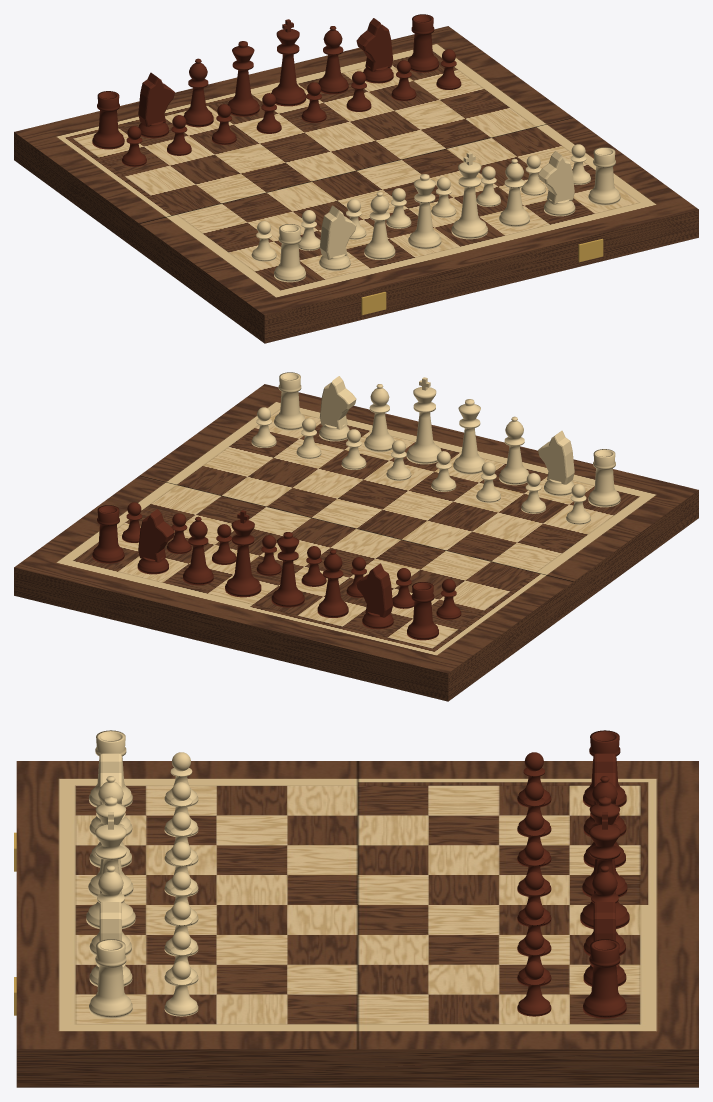
The model's file is philidor-3d-noyer-pliable-29.glb.
The picture shows the model from 3 angles, top to bottom: view 1: azimuth 30°, elevation 25°; view 2: azimuth 150°, elevation 25°; view 3: azimuth 270°, elevation 25°; orthographic projection. The views are drawn at different scales.
Visible parts, largest first — view 1: noyer-pliable-29; view 2: noyer-pliable-29; view 3: noyer-pliable-29.
Part boxes in pixels (x1,y1,x2,y2): noyer-pliable-29: (14,14,698,343); noyer-pliable-29: (14,372,698,701); noyer-pliable-29: (14,730,698,1087).
Size of what is drawn, in the model's own units: 0.29 by 0.068 by 0.2912.
5 materials, 2 textured.
